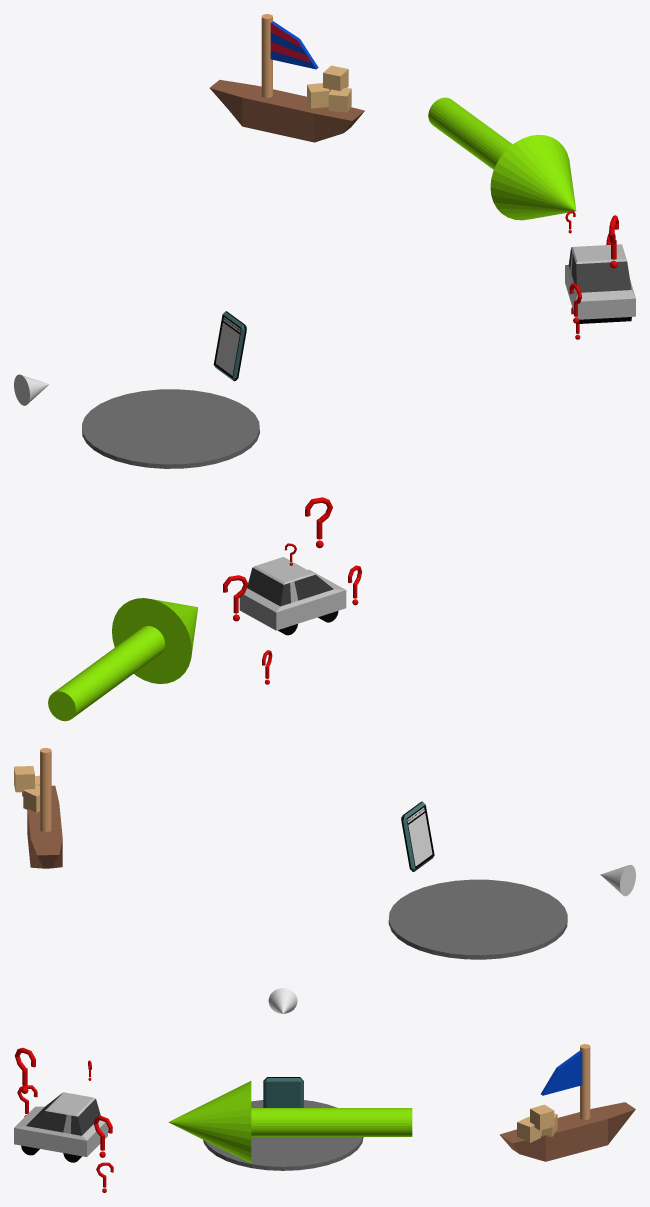
File: Gatex4.glb
3 views of the same model, one above another, from view 1: azimuth 30°, elevation 25°; view 2: azimuth 150°, elevation 25°; view 3: azimuth 270°, elevation 25° (orthographic). The views are drawn at different scales.
Visible parts, largest first — view 1: Cylinder, Barco, Flecha, Auto, Tarjeta1, Signos, Usuario; view 2: Cylinder, Flecha, Auto, Barco, Tarjeta1, Signos, Usuario; view 3: Flecha, Barco, Auto, Cylinder, Tarjeta1, Signos, Usuario.
Part boxes in pixels (x1=…): Cylinder: x1=82, y1=389, x2=259, y2=468; Barco: x1=209, y1=14, x2=364, y2=142; Flecha: x1=428, y1=97, x2=576, y2=220; Auto: x1=565, y1=244, x2=635, y2=323; Tarjeta1: x1=213, y1=311, x2=246, y2=381; Signos: x1=565, y1=210, x2=618, y2=339; Usuario: x1=14, y1=374, x2=49, y2=405; Cylinder: x1=388, y1=879, x2=567, y2=959; Flecha: x1=48, y1=598, x2=197, y2=721; Auto: x1=239, y1=557, x2=346, y2=635; Barco: x1=14, y1=748, x2=62, y2=868; Tarjeta1: x1=401, y1=801, x2=434, y2=871; Signos: x1=223, y1=497, x2=361, y2=684; Usuario: x1=600, y1=864, x2=635, y2=896; Flecha: x1=168, y1=1081, x2=412, y2=1163; Barco: x1=499, y1=1044, x2=635, y2=1161; Auto: x1=14, y1=1092, x2=107, y2=1162; Cylinder: x1=203, y1=1100, x2=363, y2=1170; Tarjeta1: x1=263, y1=1077, x2=303, y2=1107; Signos: x1=15, y1=1047, x2=113, y2=1192; Usuario: x1=268, y1=988, x2=297, y2=1013.
Bounding box in the file's own units: 38.38 × 16.84 × 43.
